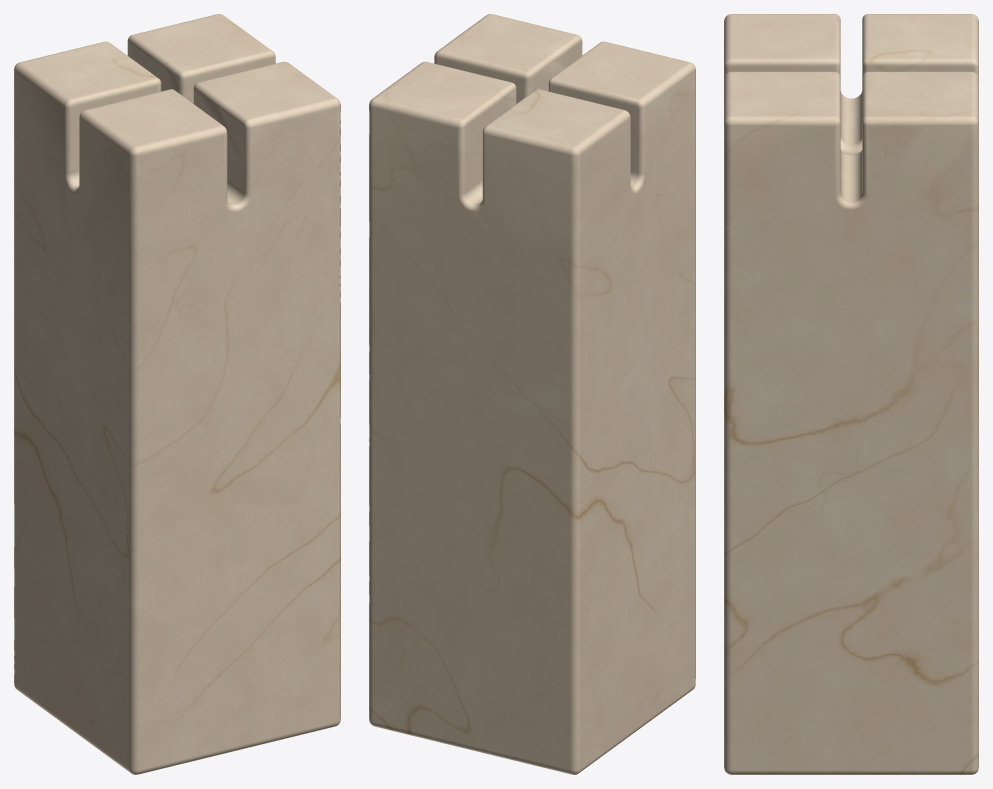
The model's file is rook-white.glb.
The picture shows the model from 3 angles, left to right: view 1: azimuth 30°, elevation 25°; view 2: azimuth 150°, elevation 25°; view 3: azimuth 270°, elevation 25°; orthographic projection. The views are drawn at different scales.
Parts seen in each view (by area): view 1: vez_bily; view 2: vez_bily; view 3: vez_bily.
Boxes of the visible parts, x1=… form: vez_bily: x1=14, y1=14, x2=340, y2=774; vez_bily: x1=369, y1=14, x2=695, y2=774; vez_bily: x1=724, y1=14, x2=978, y2=774.
Bounding box in the file's own units: 0.4281 × 1.22 × 0.4281.
1 material, 1 textured.
